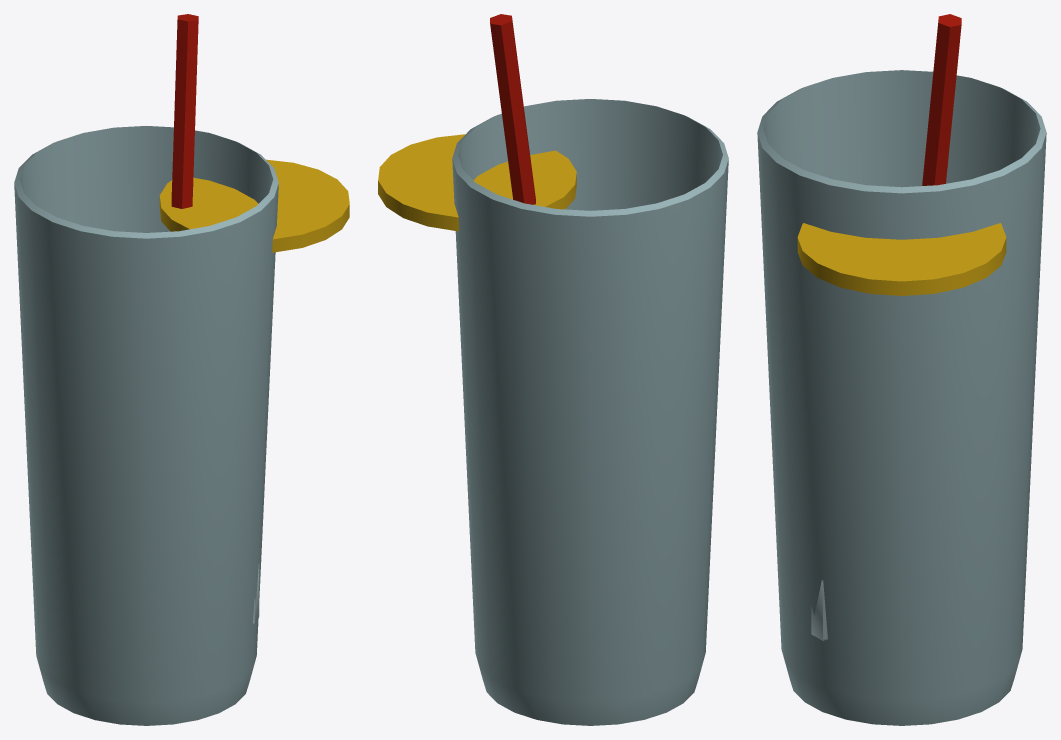
File: food-lemon-soda-s2.glb
The picture shows the model from 3 angles, left to right: view 1: azimuth 30°, elevation 25°; view 2: azimuth 150°, elevation 25°; view 3: azimuth 270°, elevation 25°; orthographic projection. The views are drawn at different scales.
Parts seen in each view (by area): view 1: glass__glass, lemon__food, straw__plastic; view 2: glass__glass, lemon__food, straw__plastic; view 3: glass__glass, lemon__food, straw__plastic, ice__glass_tint.
Boxes of the visible parts, x1,y1,x2,y2 form: glass__glass: (14,126,278,725); lemon__food: (159,159,349,252); straw__plastic: (171,14,198,208); glass__glass: (452,99,728,725); lemon__food: (378,134,576,231); straw__plastic: (490,14,535,204); glass__glass: (757,70,1046,725); lemon__food: (797,223,1006,295); straw__plastic: (922,14,961,185); ice__glass_tint: (811,580,827,640).
Bounding box in the file's own units: 0.096 × 0.1905 × 0.072.
